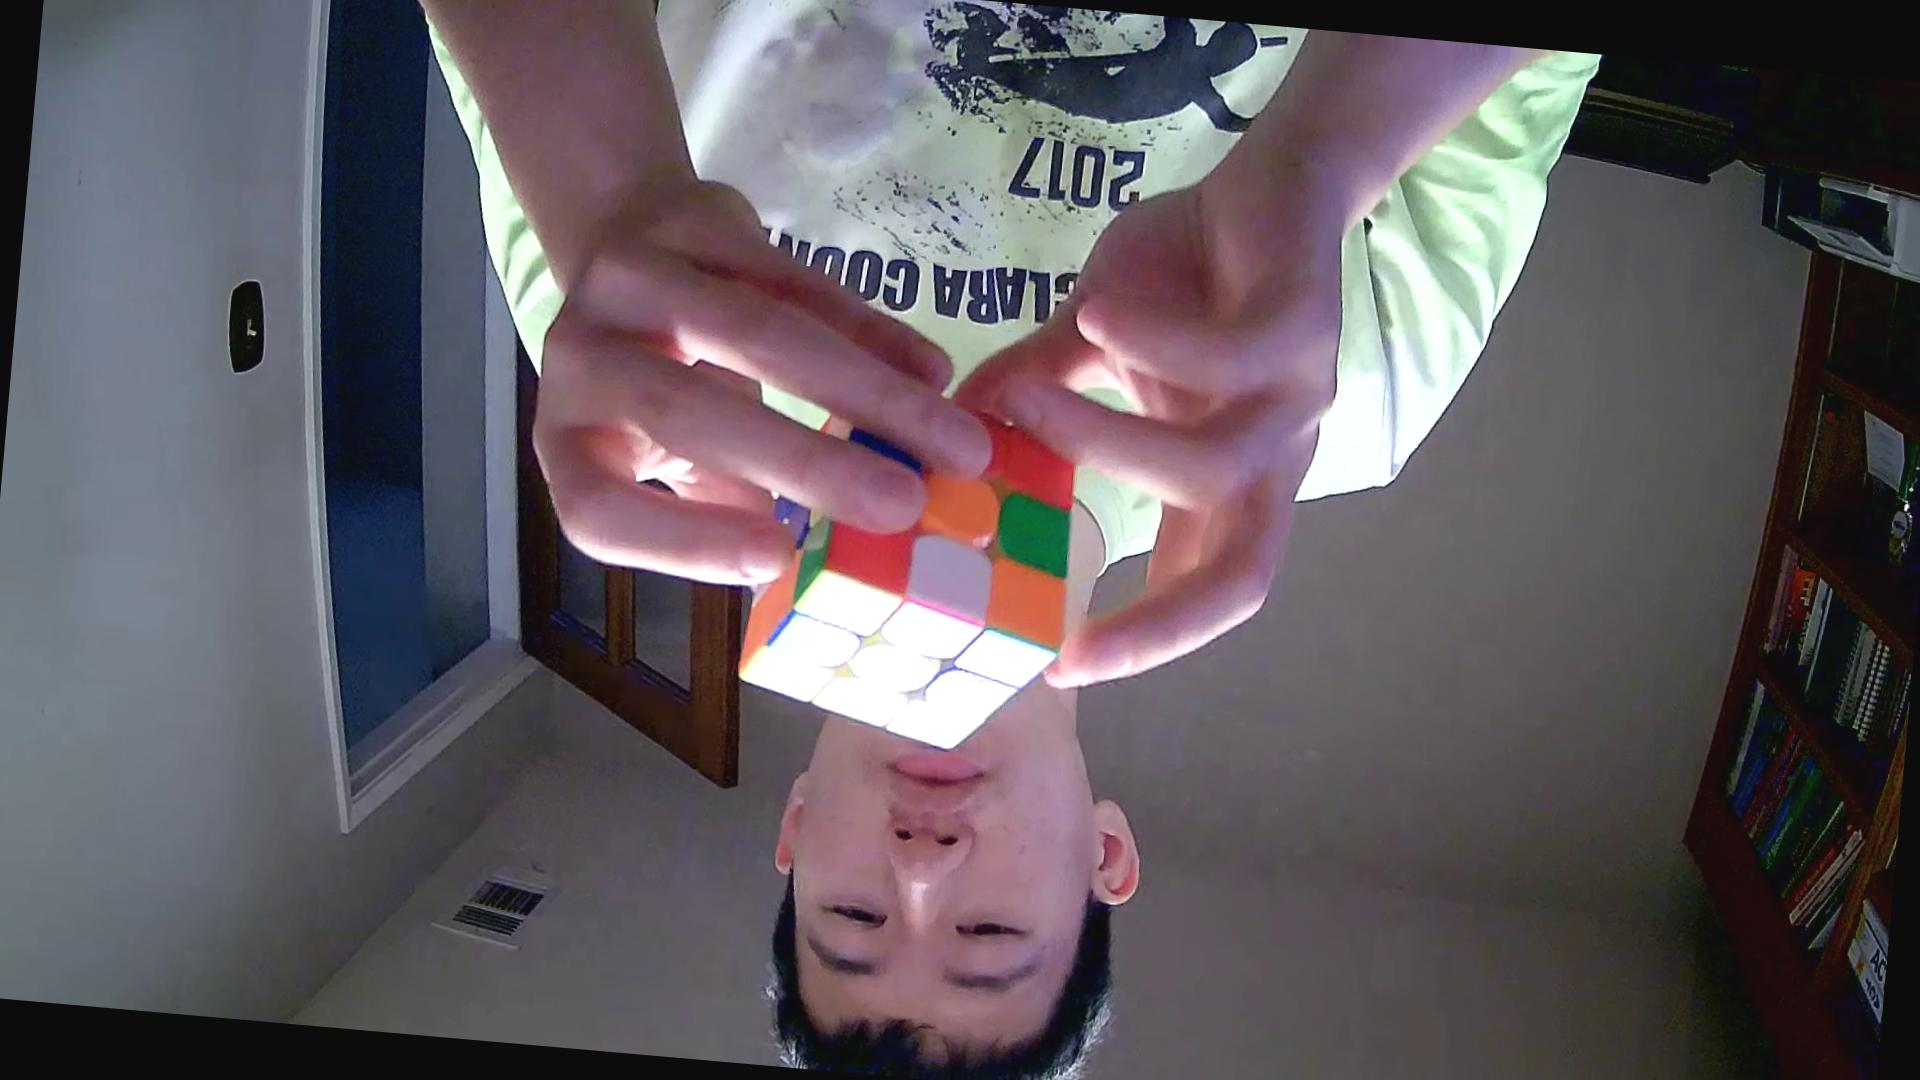Rubiks-Cube: (731, 371, 1087, 764)
